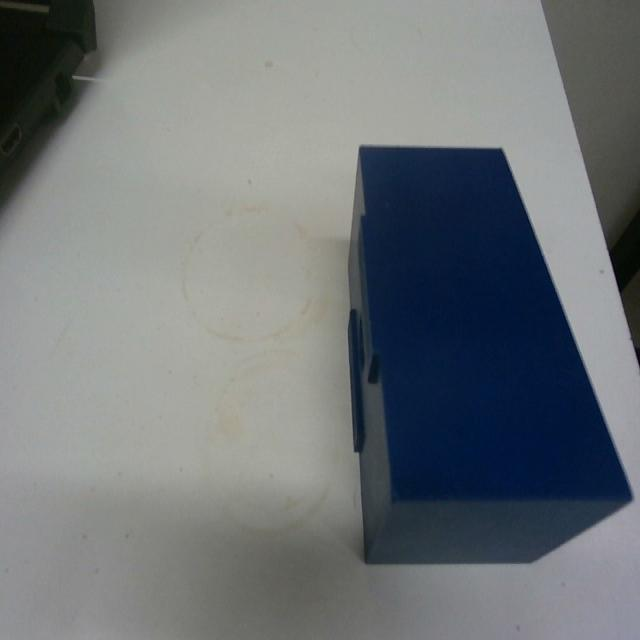Blue Cuboid: (344, 140, 634, 567)
